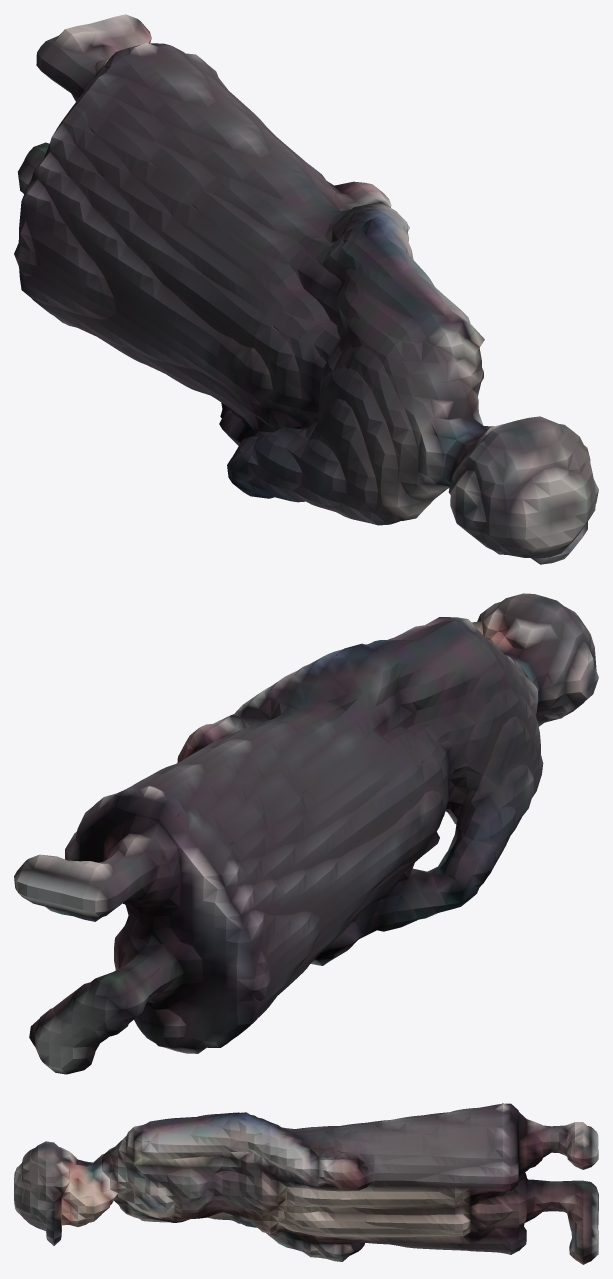
File: industrial_commoner_f_0.glb
The picture shows the model from 3 angles, top to bottom: view 1: azimuth 30°, elevation 25°; view 2: azimuth 150°, elevation 25°; view 3: azimuth 270°, elevation 25°; orthographic projection. The views are drawn at different scales.
Visible parts, largest first — view 1: world; view 2: world; view 3: world.
Part boxes in pixels (x1,y1,x2,y2): world: (14, 14, 598, 564); world: (14, 593, 598, 1074); world: (14, 1103, 598, 1264).
Size of the model in its own units: 0.2703 by 0.3092 by 0.9996.
